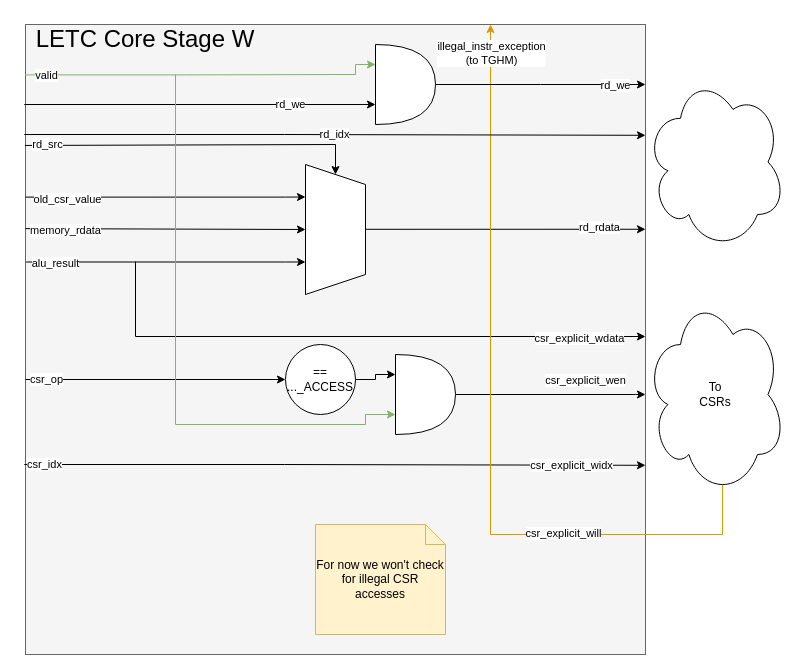
The diagram is 804 pixels wide and 672 high, and some of its shapes have lost their labels. The shapes that lost their labels are listed below. From the top down, each one's centre as x and y in pixels, then its label:
the point at 715,162: To RF
the point at 335,229: rd mux
